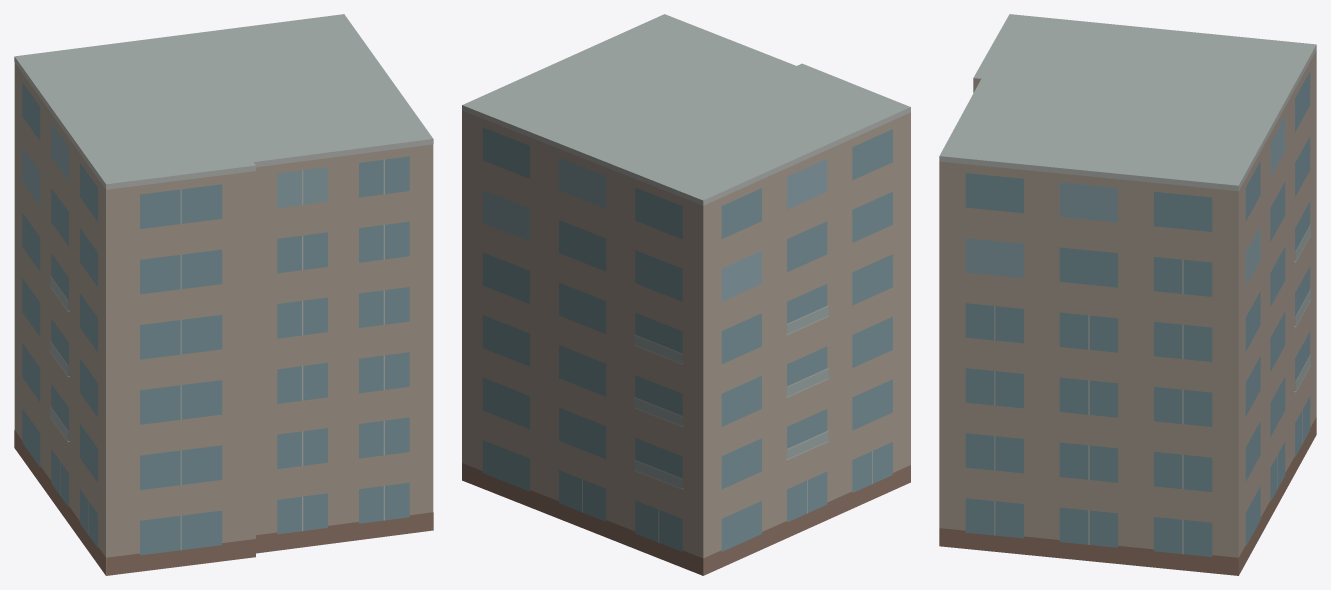
The model's file is survey-upis-32913991.glb.
The picture shows the model from 3 angles, left to right: view 1: azimuth 30°, elevation 25°; view 2: azimuth 150°, elevation 25°; view 3: azimuth 270°, elevation 25°; orthographic projection. The views are drawn at different scales.
Parts seen in each view (by area): view 1: survey-upis-32913991.tmp; view 2: survey-upis-32913991.tmp; view 3: survey-upis-32913991.tmp.
Part boxes in pixels (box(x1,y1,x2,y2)): survey-upis-32913991.tmp: box(14, 14, 433, 575); survey-upis-32913991.tmp: box(462, 14, 910, 575); survey-upis-32913991.tmp: box(939, 14, 1316, 575).
Bounding box in the file's own units: 16.43 × 17.4 × 15.26.
